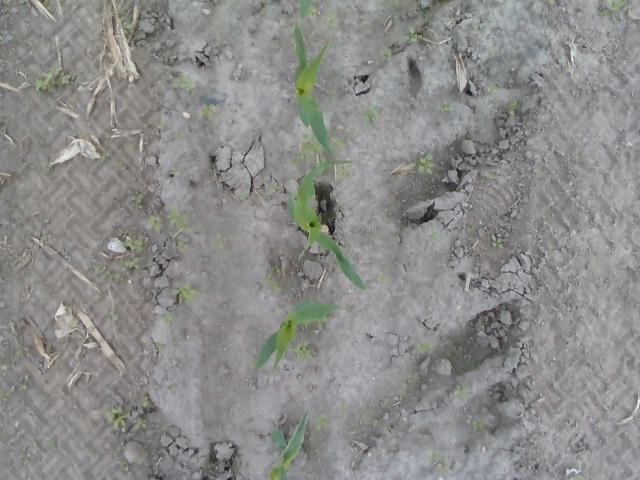Maize: (286, 158, 369, 290), (255, 298, 340, 372), (291, 23, 335, 156), (268, 410, 310, 480), (298, 0, 314, 18)
Weeds: (288, 134, 321, 168), (35, 66, 71, 94), (259, 264, 288, 294), (96, 266, 128, 286), (166, 206, 192, 230), (292, 339, 318, 362), (106, 404, 128, 430), (362, 103, 384, 128), (176, 282, 200, 304), (599, 0, 626, 18), (428, 450, 448, 474), (415, 153, 432, 176), (126, 191, 146, 210), (198, 102, 218, 121), (119, 256, 142, 272), (142, 212, 160, 232), (174, 74, 193, 92), (336, 163, 352, 183), (122, 238, 144, 252), (398, 26, 418, 41), (174, 238, 191, 255), (160, 312, 178, 328), (104, 304, 120, 322), (0, 384, 16, 402), (453, 384, 471, 400), (324, 4, 336, 28), (330, 138, 352, 150), (314, 414, 330, 430), (416, 338, 432, 352), (490, 234, 504, 250), (32, 229, 49, 242), (19, 447, 31, 465), (19, 373, 31, 391), (15, 343, 30, 356), (471, 419, 486, 432), (399, 382, 409, 401), (215, 231, 225, 249), (377, 272, 392, 284), (436, 100, 449, 113), (506, 99, 520, 111), (380, 47, 392, 61), (432, 0, 451, 8), (487, 82, 502, 92), (122, 22, 134, 34), (0, 358, 6, 382), (482, 46, 496, 56), (135, 417, 147, 428), (158, 117, 168, 129), (306, 6, 318, 16), (472, 24, 485, 33), (423, 8, 434, 18), (152, 342, 162, 353), (174, 130, 186, 139), (47, 438, 57, 448), (170, 168, 182, 176), (390, 15, 400, 24), (271, 39, 280, 48), (431, 232, 440, 241), (270, 184, 280, 192), (570, 475, 585, 480), (144, 400, 152, 409), (240, 192, 248, 200), (548, 0, 556, 5), (287, 176, 292, 184)
